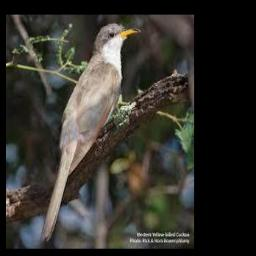Cuckoo: (40, 24, 141, 241)
